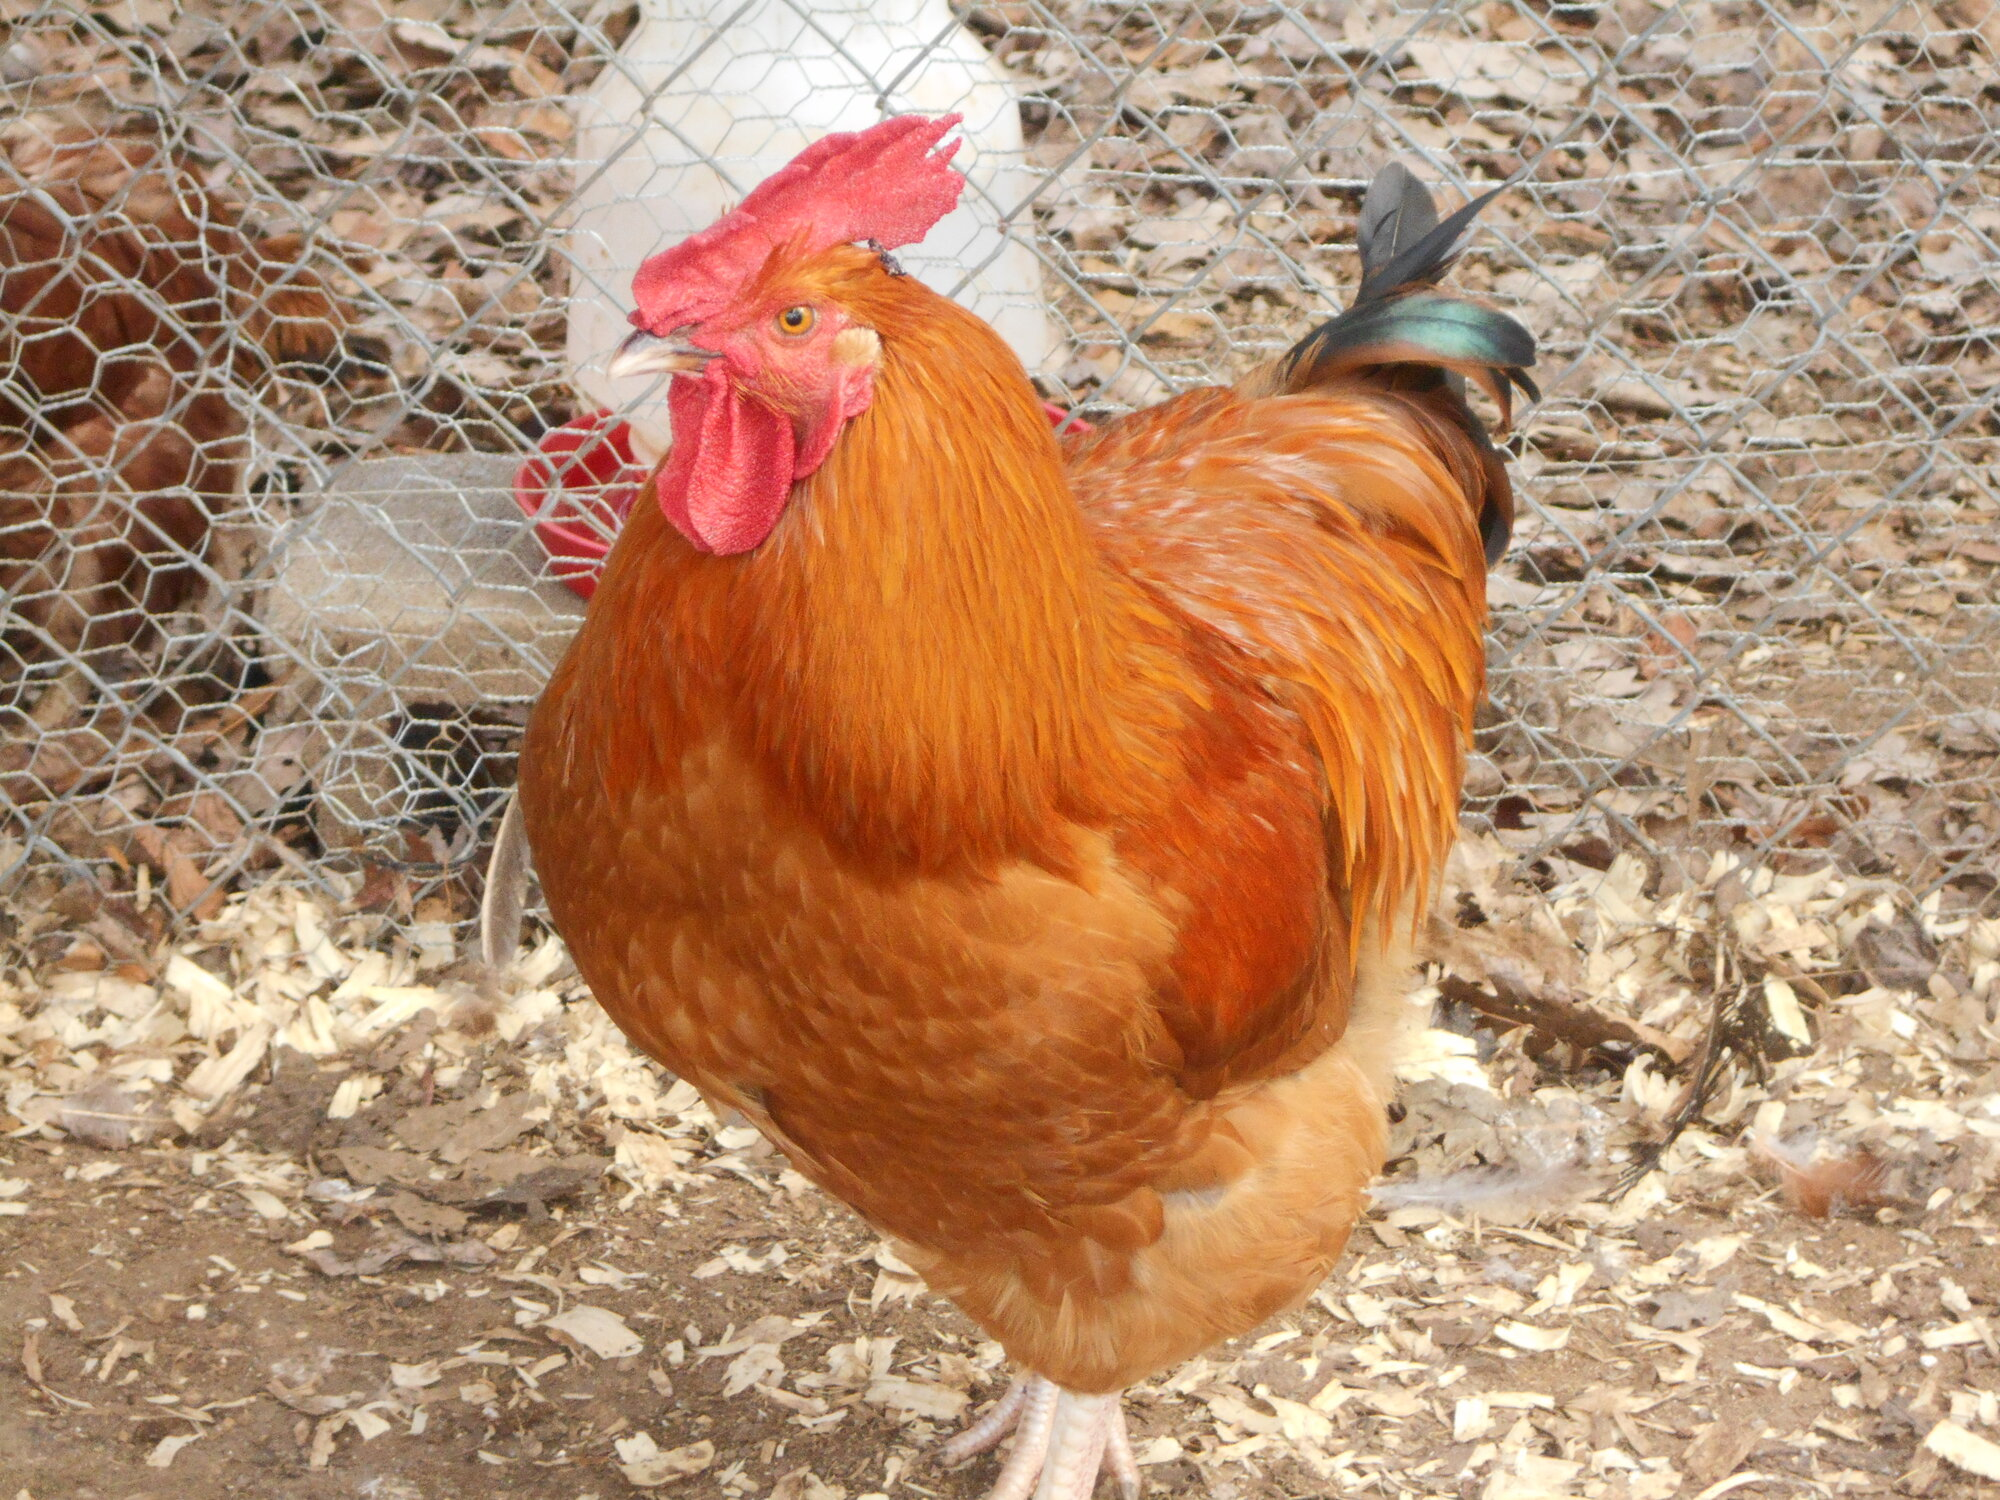buff: (553, 91, 1102, 811)
